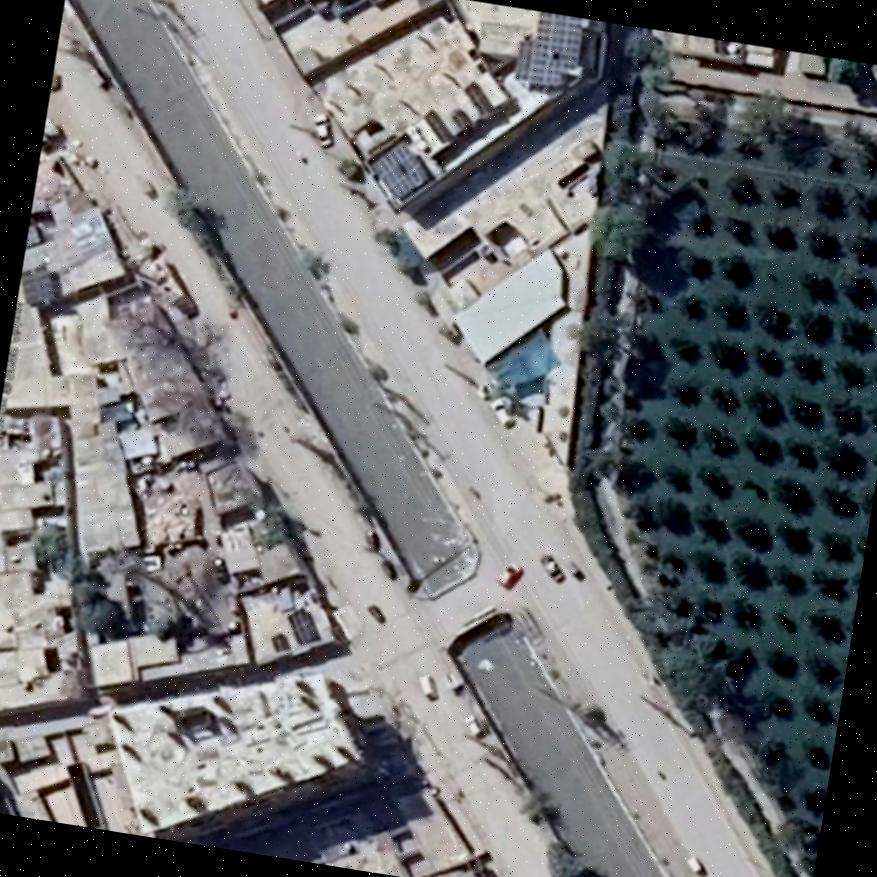Solarpanel: (517, 10, 583, 90), (369, 134, 433, 204), (22, 263, 52, 303), (288, 610, 314, 642)
